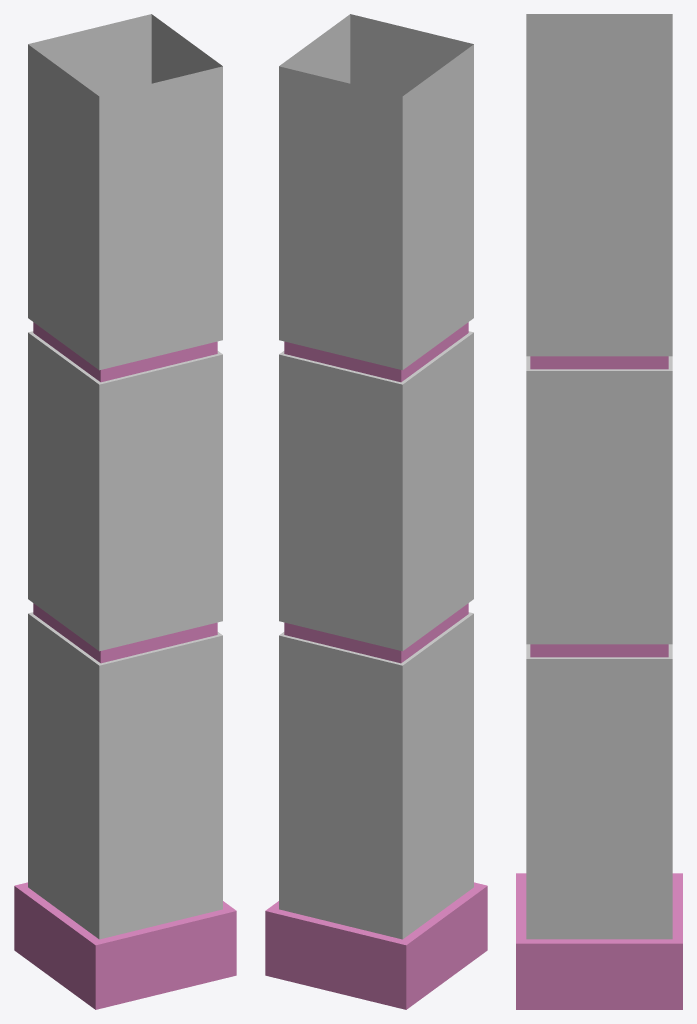
File: Column1.fbx
The picture shows the model from 3 angles, left to right: view 1: azimuth 30°, elevation 25°; view 2: azimuth 150°, elevation 25°; view 3: azimuth 270°, elevation 25°; orthographic projection. The views are drawn at different scales.
Parts seen in each view (by area): view 1: Cube.009; view 2: Cube.009; view 3: Cube.009.
Part boxes in pixels (<box>): Cube.009: <box>14,14,236,1009</box>; Cube.009: <box>265,14,487,1009</box>; Cube.009: <box>516,14,682,1009</box>.
Bounding box in the file's own units: 1.14 × 7.01 × 1.14.
